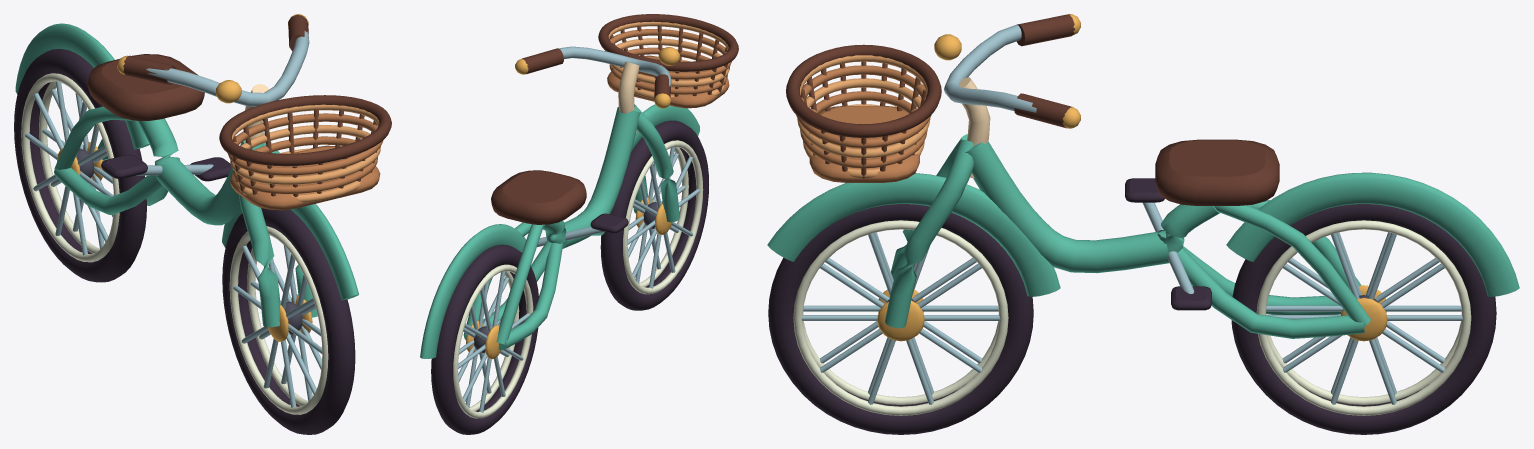
File: mount_bike.glb
3 views of the same model, side by side, from view 1: azimuth 30°, elevation 25°; view 2: azimuth 150°, elevation 25°; view 3: azimuth 270°, elevation 25° (orthographic). The views are drawn at different scales.
Visible parts, largest first — view 1: Carrocería de Bicicleta Paseo.003, Wheel_Front mesh.003, Wheel_Rear mesh.003, Pedal_R mesh.002, Pedal_L mesh.002, Crank mesh.003; view 2: Carrocería de Bicicleta Paseo.003, Wheel_Rear mesh.003, Wheel_Front mesh.003, Pedal_R mesh.002, Crank mesh.003; view 3: Carrocería de Bicicleta Paseo.003, Wheel_Front mesh.003, Wheel_Rear mesh.003, Pedal_L mesh.002, Crank mesh.003, Pedal_R mesh.002.
Part boxes in pixels (x1,y1,x2,y2): Carrocería de Bicicleta Paseo.003: (15,14,391,327); Wheel_Front mesh.003: (222,208,355,434); Wheel_Rear mesh.003: (14,49,146,282); Pedal_R mesh.002: (101,154,147,178); Pedal_L mesh.002: (190,157,231,181); Crank mesh.003: (136,164,213,175); Carrocería de Bicicleta Paseo.003: (420,14,738,358); Wheel_Rear mesh.003: (431,244,538,434); Wheel_Front mesh.003: (600,120,708,310); Pedal_R mesh.002: (590,213,628,233); Crank mesh.003: (537,227,605,246); Carrocería de Bicicleta Paseo.003: (767,14,1519,338); Wheel_Front mesh.003: (768,204,1033,434); Wheel_Rear mesh.003: (1231,204,1496,434); Pedal_L mesh.002: (1171,286,1211,310); Crank mesh.003: (1142,202,1194,293); Pedal_R mesh.002: (1125,178,1164,202).
Bounding box in the file's own units: 0.5147 × 0.883 × 1.6.
